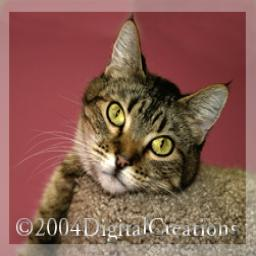catnose: (114, 151, 135, 173)
